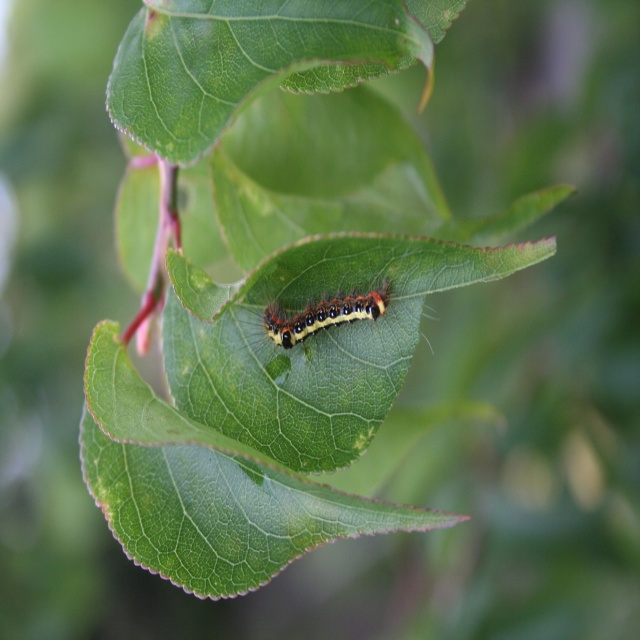Caterpillar: (237, 271, 432, 345)
